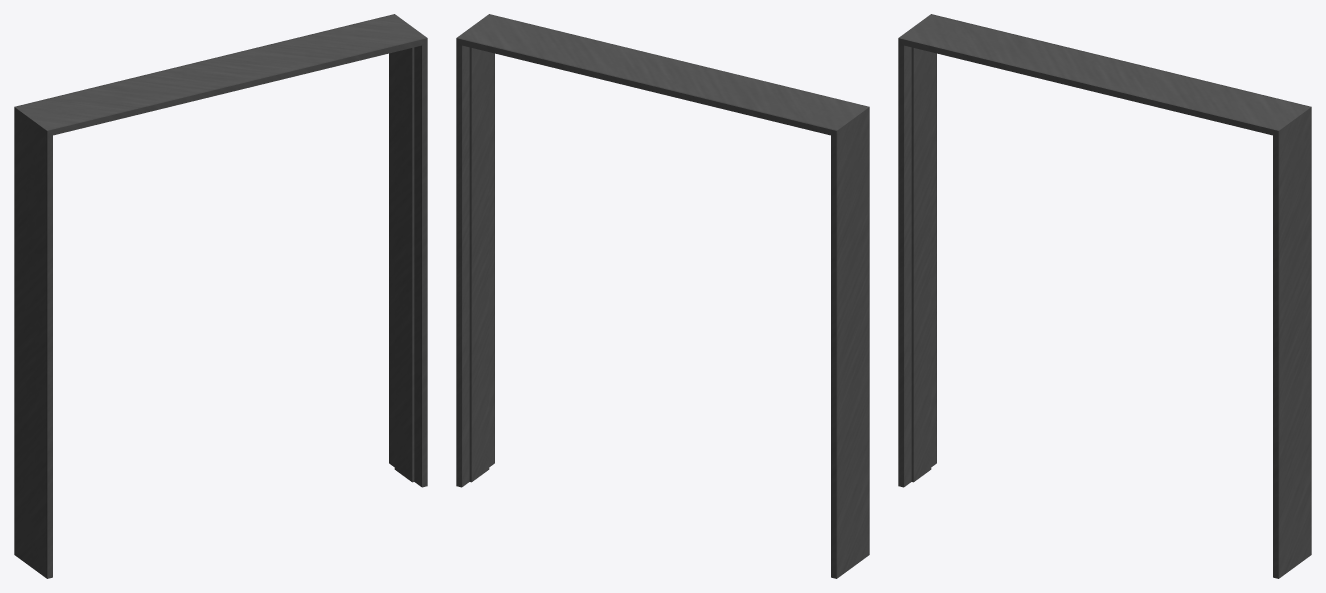
Rendered from DoorFrame2x2_25.gltf.
The picture shows the model from 3 angles, left to right: view 1: azimuth 30°, elevation 25°; view 2: azimuth 150°, elevation 25°; view 3: azimuth 330°, elevation 25°; orthographic projection.
Visible parts, largest first — view 1: DoorFrame2x2_25Shape; view 2: DoorFrame2x2_25Shape; view 3: DoorFrame2x2_25Shape.
Part boxes in pixels (x1,y1,x2,y2): DoorFrame2x2_25Shape: (14, 14, 427, 578); DoorFrame2x2_25Shape: (456, 14, 869, 578); DoorFrame2x2_25Shape: (898, 14, 1311, 578).
Bounding box in the file's own units: 2 × 2.25 × 0.3.
1 material, 1 textured.
